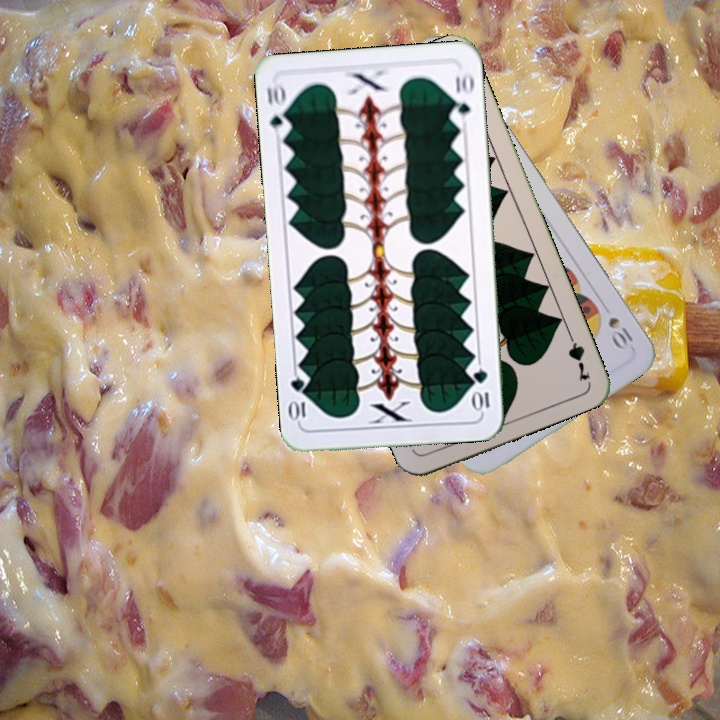G10: (262, 79, 293, 139), (470, 365, 492, 414)
G7: (563, 326, 593, 384)
S10: (604, 312, 636, 350)
